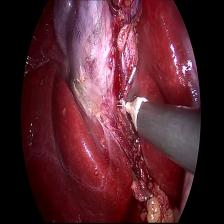Hook: (115, 88, 156, 138)
